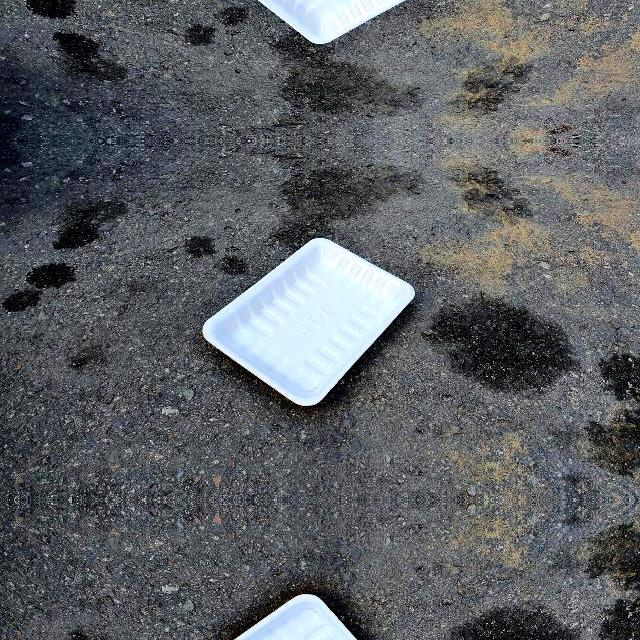Styrofoam: (202, 237, 414, 407), (203, 237, 415, 405), (201, 591, 414, 640), (201, 0, 414, 43)
